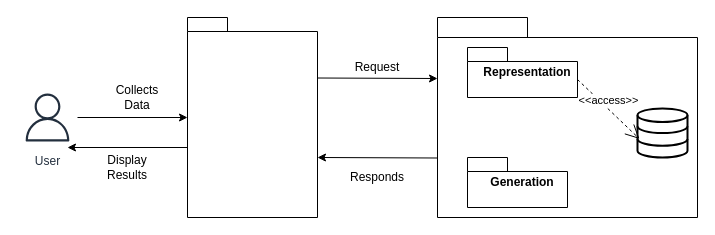
Image size: 715x235. Some labels were removed from this diagram. The shapes that lost their labels are listed below. From the top down, each one's box as (x1, y1, x2, y2) in pixels, then its label:
(186, 16, 318, 218): Interface Module
(436, 16, 698, 218): Logic Module
